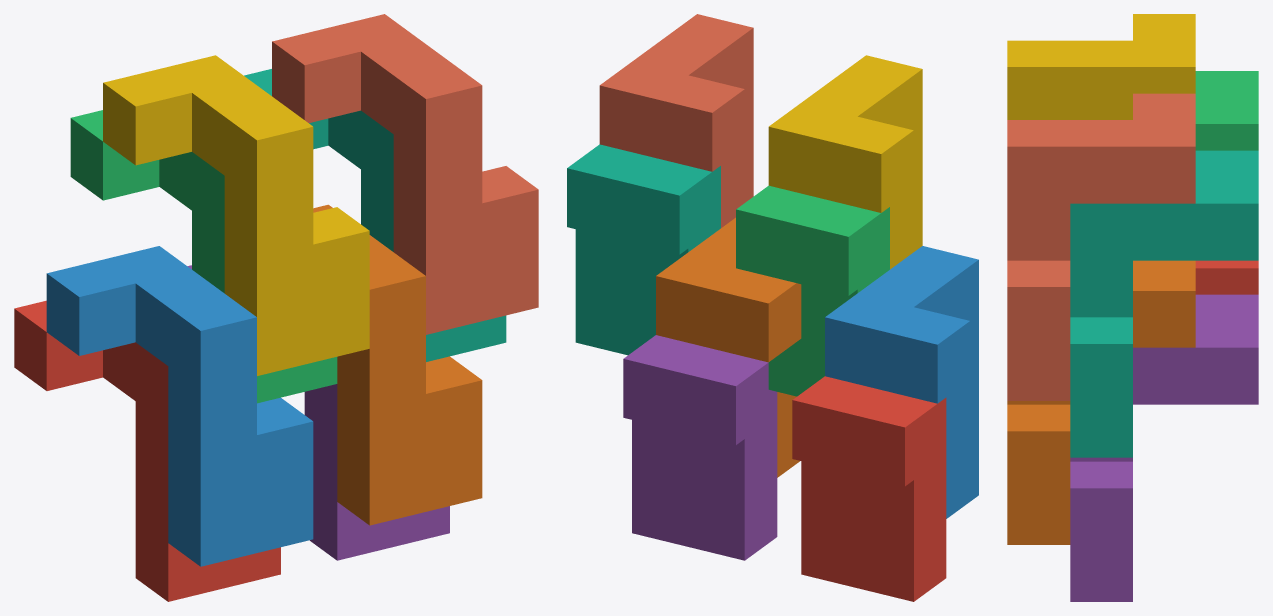
File: tiling.obj
3 renders of one model, left to right at view 1: azimuth 30°, elevation 25°; view 2: azimuth 150°, elevation 25°; view 3: azimuth 270°, elevation 25°, orthographic. The views are drawn at different scales.
Visible parts, largest first — view 1: copy_1_domain_2, copy_1_domain_4, copy_1_domain_8, copy_1_domain_6, copy_1_domain_1, copy_1_domain_3, copy_1_domain_7, copy_1_domain_5; view 2: copy_1_domain_1, copy_1_domain_5, copy_1_domain_2, copy_1_domain_7, copy_1_domain_4, copy_1_domain_8, copy_1_domain_3, copy_1_domain_6; view 3: copy_1_domain_8, copy_1_domain_7, copy_1_domain_5, copy_1_domain_4, copy_1_domain_6, copy_1_domain_3, copy_1_domain_1.
Boxes of the visible parts, x1,y1,x2,y2 form: copy_1_domain_2: [46, 246, 313, 566]; copy_1_domain_4: [103, 55, 369, 375]; copy_1_domain_8: [272, 14, 538, 334]; copy_1_domain_6: [313, 204, 482, 525]; copy_1_domain_1: [14, 300, 280, 601]; copy_1_domain_3: [70, 110, 337, 403]; copy_1_domain_7: [244, 69, 506, 361]; copy_1_domain_5: [187, 265, 449, 560]; copy_1_domain_1: [792, 376, 946, 601]; copy_1_domain_5: [623, 335, 777, 560]; copy_1_domain_2: [825, 246, 978, 518]; copy_1_domain_7: [567, 144, 720, 355]; copy_1_domain_4: [768, 55, 922, 269]; copy_1_domain_8: [599, 14, 753, 227]; copy_1_domain_3: [736, 185, 889, 396]; copy_1_domain_6: [656, 217, 801, 477]; copy_1_domain_8: [1007, 93, 1195, 400]; copy_1_domain_7: [1070, 150, 1258, 457]; copy_1_domain_5: [1070, 294, 1258, 601]; copy_1_domain_4: [1007, 14, 1195, 119]; copy_1_domain_6: [1007, 260, 1195, 544]; copy_1_domain_3: [1195, 71, 1258, 150]; copy_1_domain_1: [1195, 260, 1258, 294].
Size of the model in its own units: 7 by 8 by 4.
